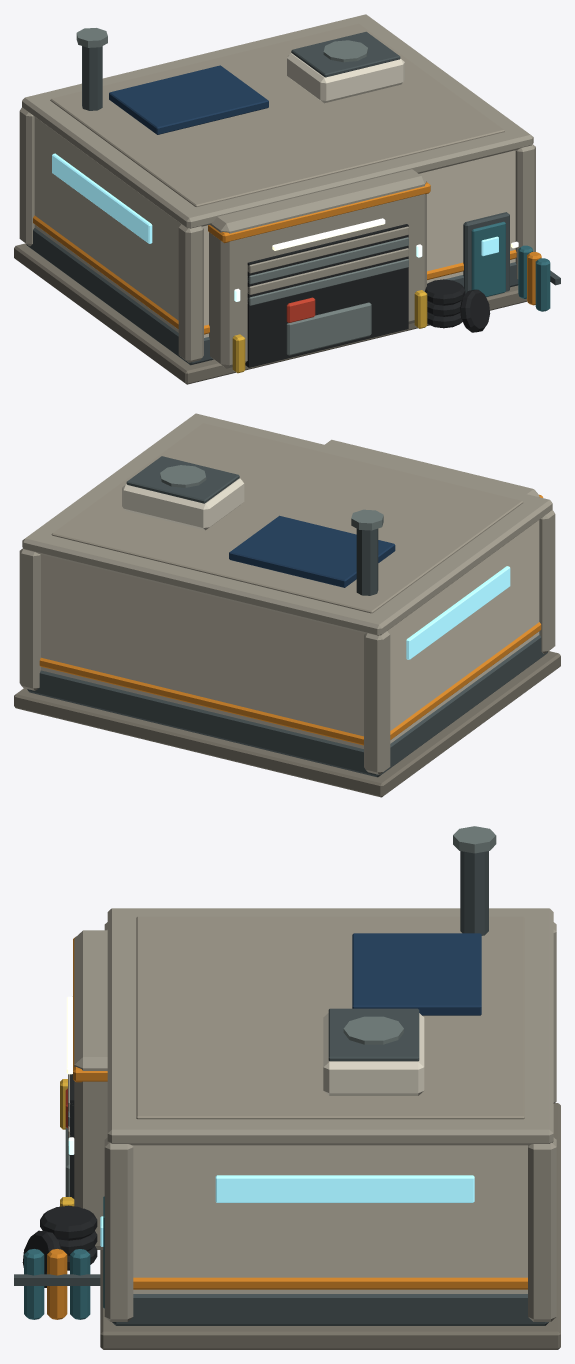
Rendered from fh_workshop.glb.
3 views of the same model, one above another, from view 1: azimuth 30°, elevation 25°; view 2: azimuth 150°, elevation 25°; view 3: azimuth 270°, elevation 25° (orthographic). The views are drawn at different scales.
Parts seen in each view (by area): view 1: fh_workshop; view 2: fh_workshop; view 3: fh_workshop.
Boxes of the visible parts, <box> form: fh_workshop: <box>14,14,560,384</box>; fh_workshop: <box>14,413,560,797</box>; fh_workshop: <box>14,826,560,1349</box>.
Size of the model in its own units: 3.8 by 2.42 by 3.8.
